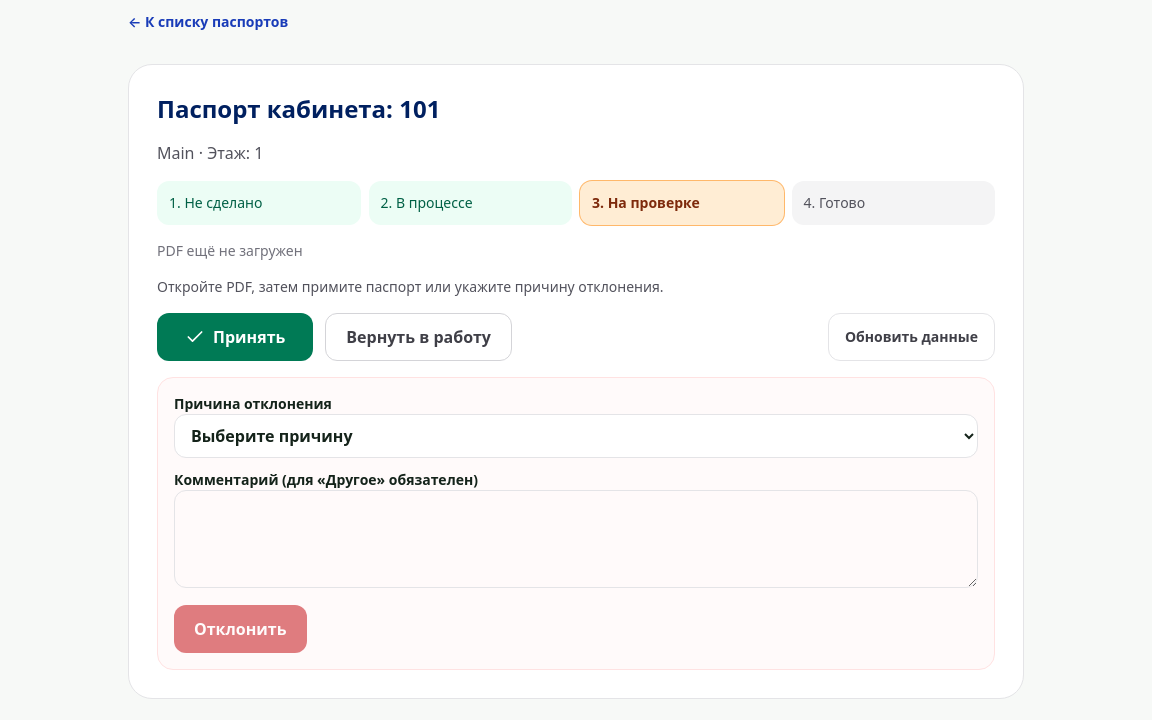
Test: room passports › isolates withdrawal from a reviewer's rejection and approval controls
Click the button "Вернуть в работу" at (419, 337), box left=325, top=313, right=512, bottom=361
(page scrolled)
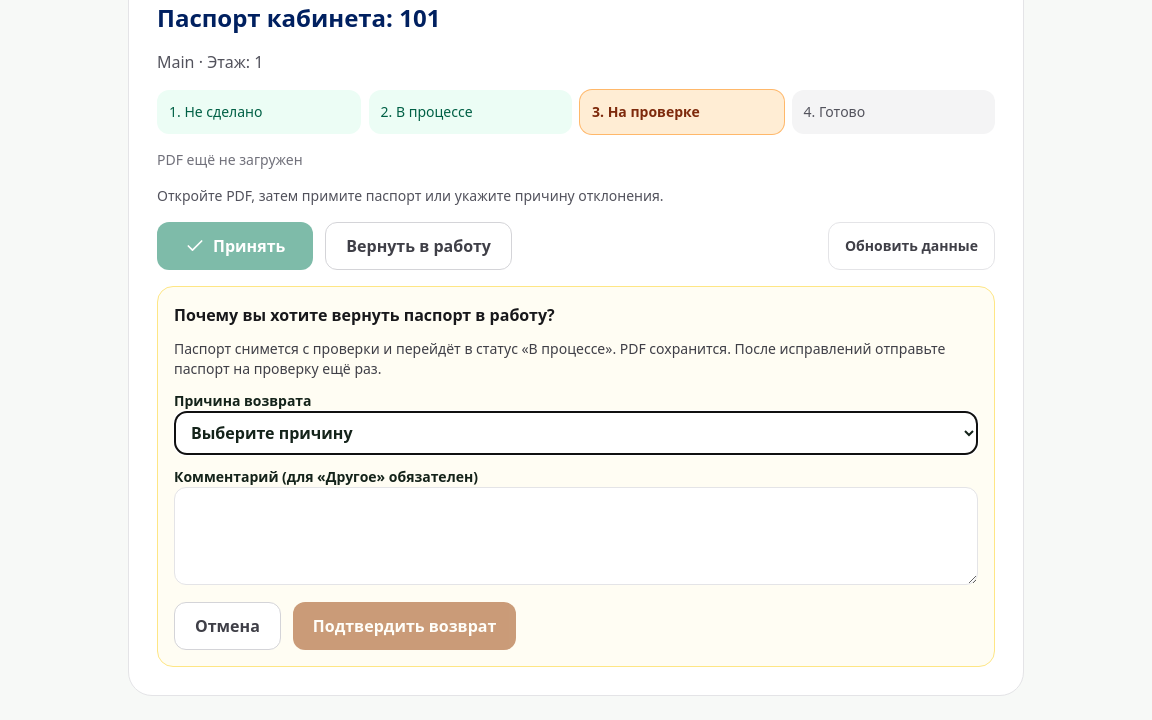
Now the text "Паспорт снимется с проверки и перейдёт в статус «В процессе». PDF сохранится. После исправлений отправьте паспорт на про" is shown, box left=174, top=339, right=945, bottom=378
Now the text labelled "Причина отклонения" is gone
Now the button "Принять" is disabled, box left=157, top=222, right=313, bottom=270
Click the button "Отмена" at (227, 626), box left=174, top=602, right=281, bottom=650
(page scrolled)
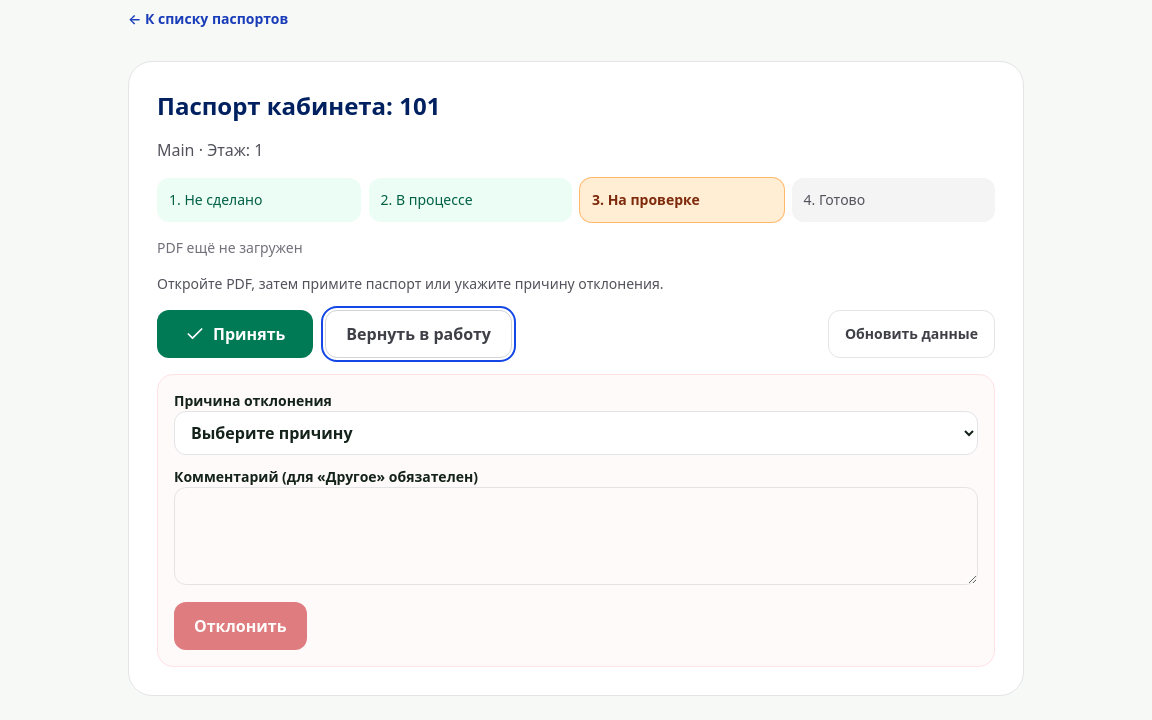
Expected: the dropdown labelled "Причина отклонения" is shown, left=174, top=411, right=978, bottom=455
Now the button "Принять" is enabled, box left=157, top=310, right=313, bottom=358
